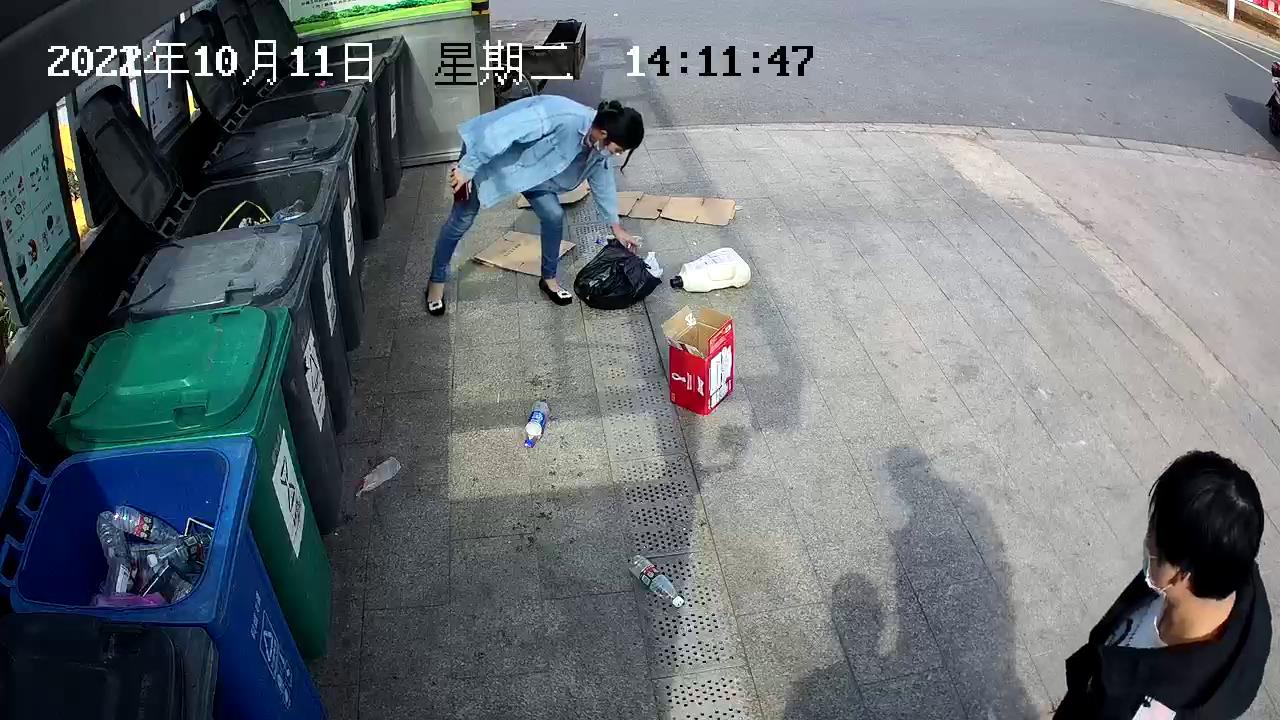garbage-bag: (572, 236, 662, 311)
person: (1047, 447, 1275, 720), (420, 91, 646, 319)
suliaozhipin: (668, 245, 753, 292), (626, 550, 688, 610), (352, 453, 402, 500), (520, 394, 552, 448)
zhizhipin: (658, 302, 738, 418), (608, 184, 743, 227), (468, 228, 578, 277)
